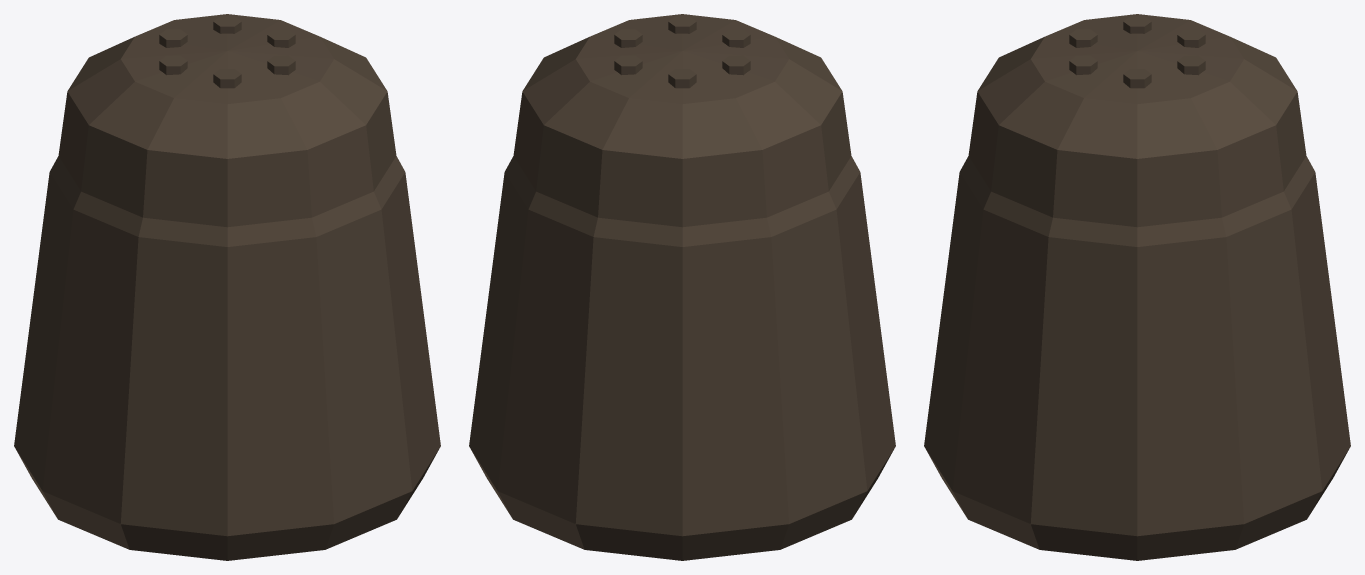
Rendered from spice_shaker_whole.glb.
3 views of the same model, side by side, from view 1: azimuth 30°, elevation 25°; view 2: azimuth 150°, elevation 25°; view 3: azimuth 270°, elevation 25° (orthographic).
Parts seen in each view (by area): view 1: spice_shaker_whole_0; view 2: spice_shaker_whole_0; view 3: spice_shaker_whole_0.
Boxes of the visible parts, x1,y1,x2,y2 form: spice_shaker_whole_0: (14,14,440,560); spice_shaker_whole_0: (469,14,895,560); spice_shaker_whole_0: (924,14,1350,560).
Size of the model in its own units: 0.24 by 0.267 by 0.24.
